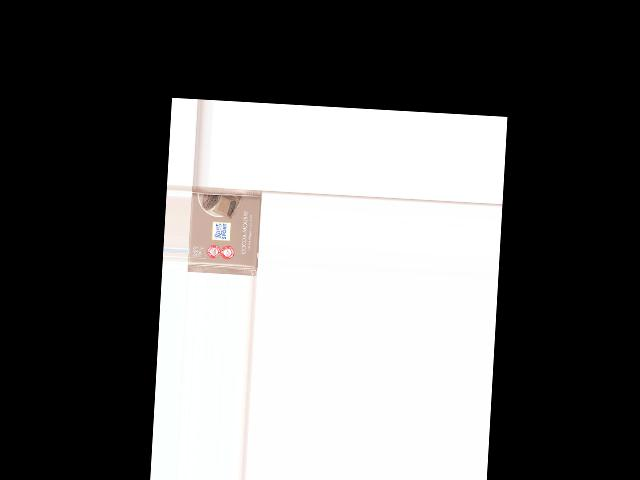chocolate: (187, 186, 262, 274)
